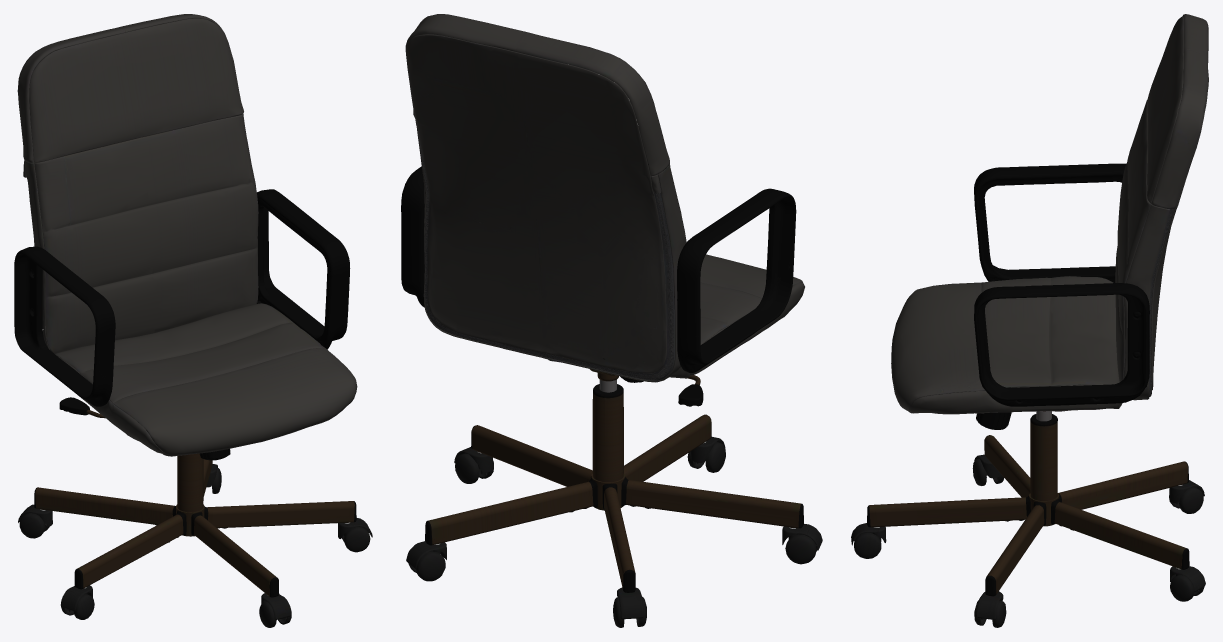
The model's file is IKEA RENBERGET CHAIR.glb.
3 renders of one model, left to right at view 1: azimuth 30°, elevation 25°; view 2: azimuth 150°, elevation 25°; view 3: azimuth 270°, elevation 25°, orthographic. The views are drawn at different scales.
Parts seen in each view (by area): view 1: RENBERGET; view 2: RENBERGET; view 3: RENBERGET.
Boxes of the visible parts, x1,y1,x2,y2 form: RENBERGET: [14, 14, 372, 627]; RENBERGET: [401, 14, 822, 627]; RENBERGET: [851, 14, 1208, 627].
Bounding box in the file's own units: 0.6771 × 1.01 × 0.6511.
1 material, 1 textured.
